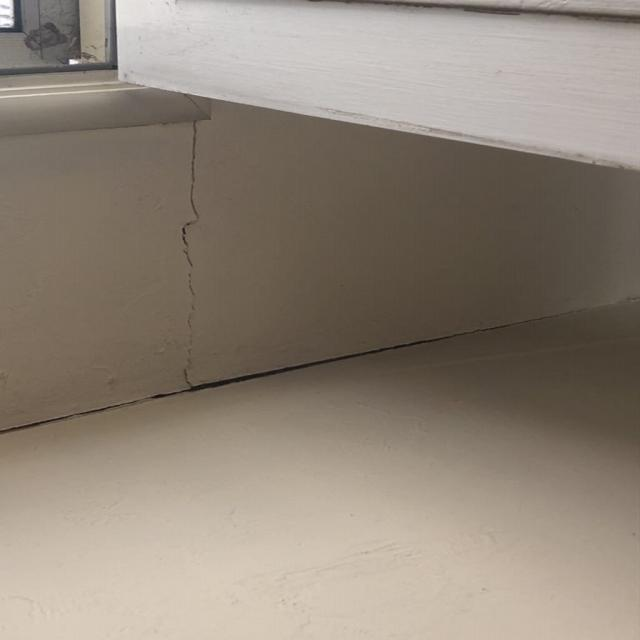leak: (1, 293, 640, 437)
